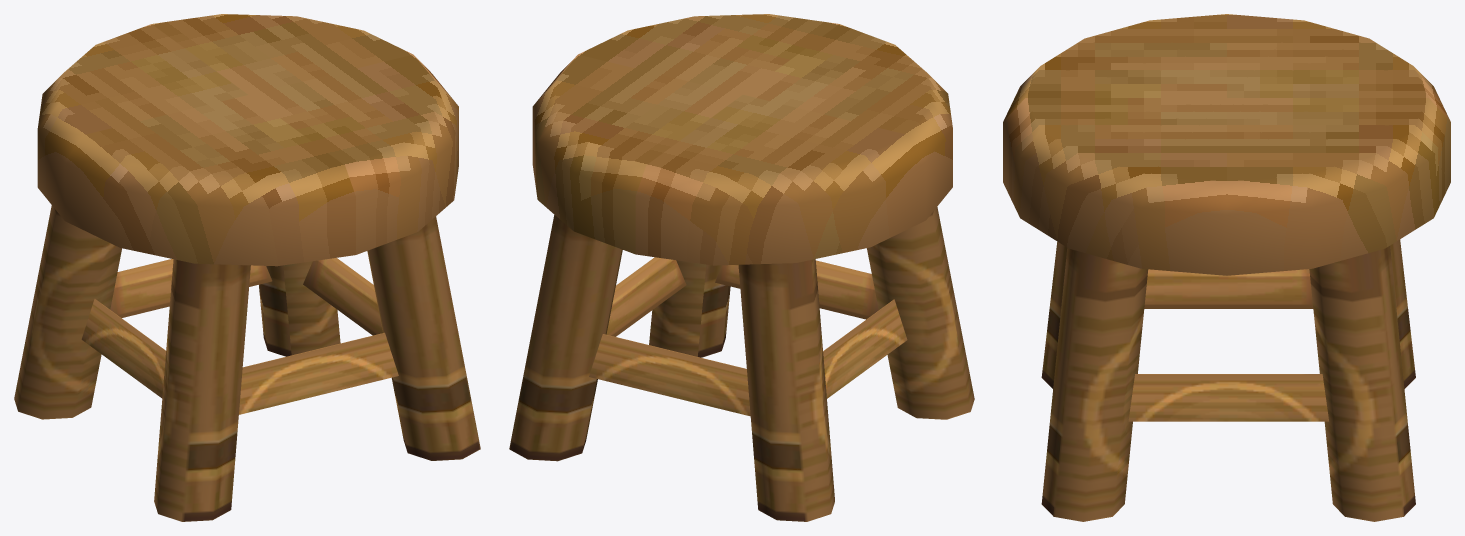
Rendered from rmk_oth_stool_wo.dae.
3 views of the same model, side by side, from view 1: azimuth 30°, elevation 25°; view 2: azimuth 150°, elevation 25°; view 3: azimuth 270°, elevation 25° (orthographic). The views are drawn at different scales.
Parts seen in each view (by area): view 1: rmk_oth_stool_wo; view 2: rmk_oth_stool_wo; view 3: rmk_oth_stool_wo.
Boxes of the visible parts, box(x1,y1,x2,y2) form: rmk_oth_stool_wo: box(14, 14, 480, 521); rmk_oth_stool_wo: box(509, 14, 974, 521); rmk_oth_stool_wo: box(1003, 14, 1450, 521).
Size of the model in its own units: 18.78 by 16.12 by 19.06.
2 materials, 2 textured.
